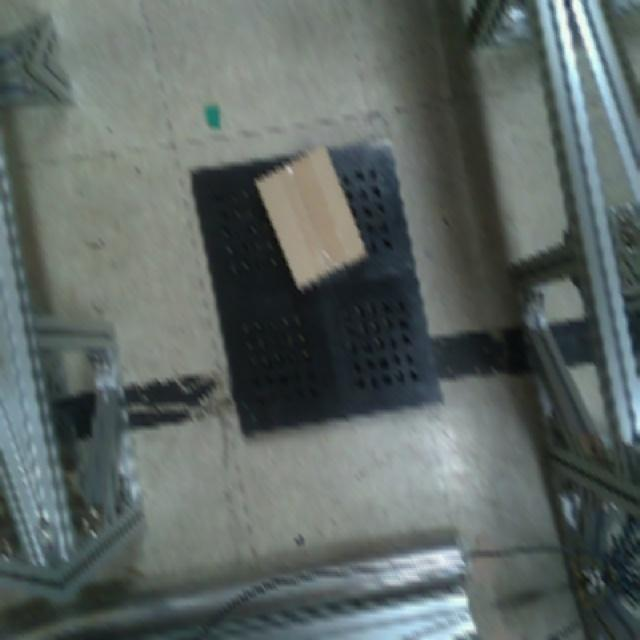box: (242, 136, 378, 296)
pallet: (180, 132, 451, 445)
